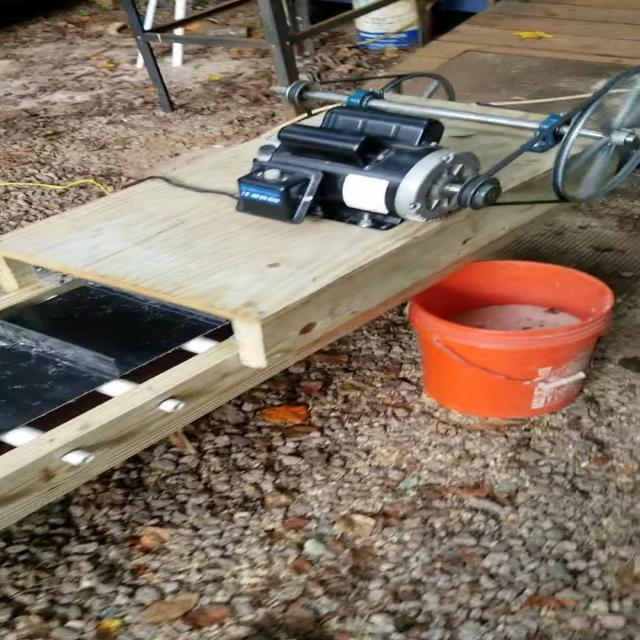Convoyeur: (0, 103, 636, 530)
